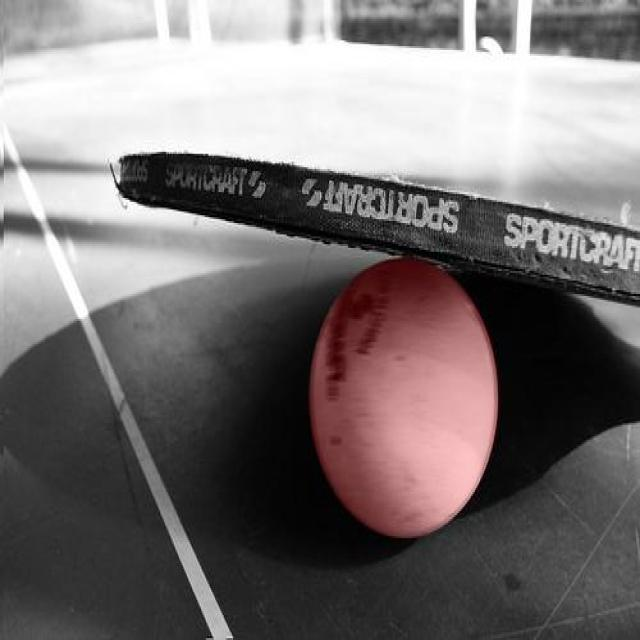ping-pong-ball: (308, 258, 500, 544)
